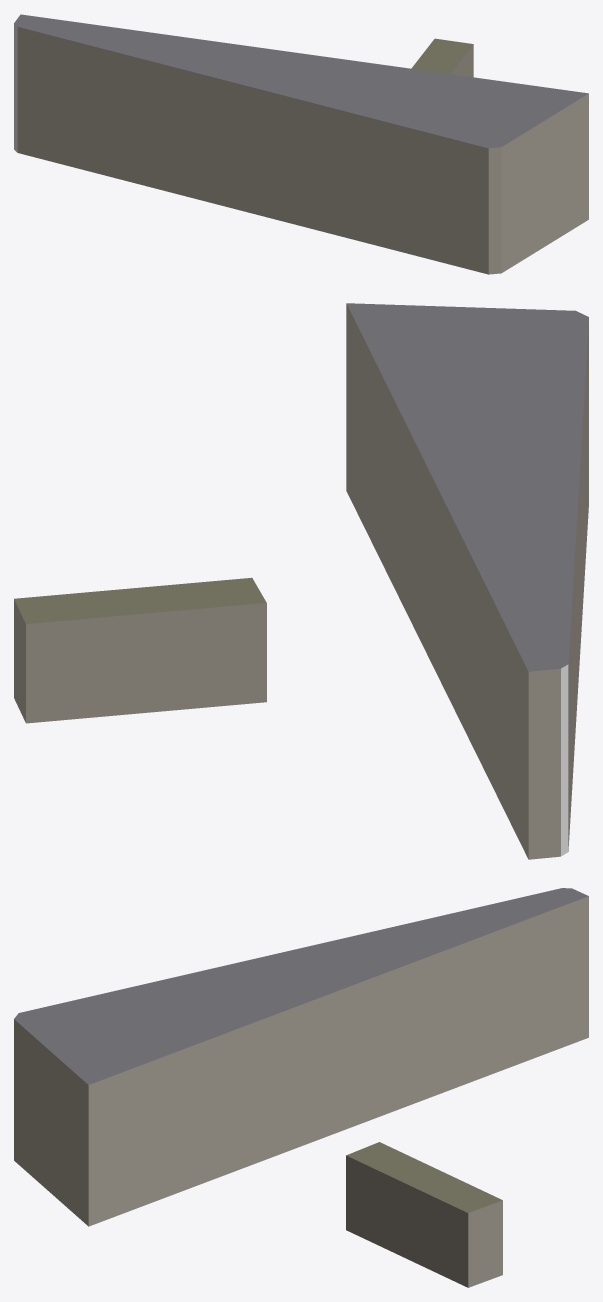
3 views of the same model, one above another, from view 1: azimuth 30°, elevation 25°; view 2: azimuth 150°, elevation 25°; view 3: azimuth 270°, elevation 25° (orthographic). The views are drawn at different scales.
Visible parts, largest first — view 1: tuile; view 2: tuile; view 3: tuile.
Boxes of the visible parts, x1,y1,x2,y2 form: tuile: (14,14,588,274); tuile: (14,303,588,859); tuile: (14,888,588,1287).
Size of the model in its own units: 114 by 40.69 by 122.
